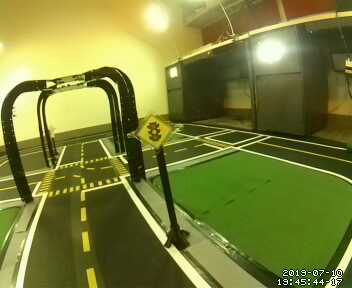Traffic light sign: (136, 111, 176, 149)
